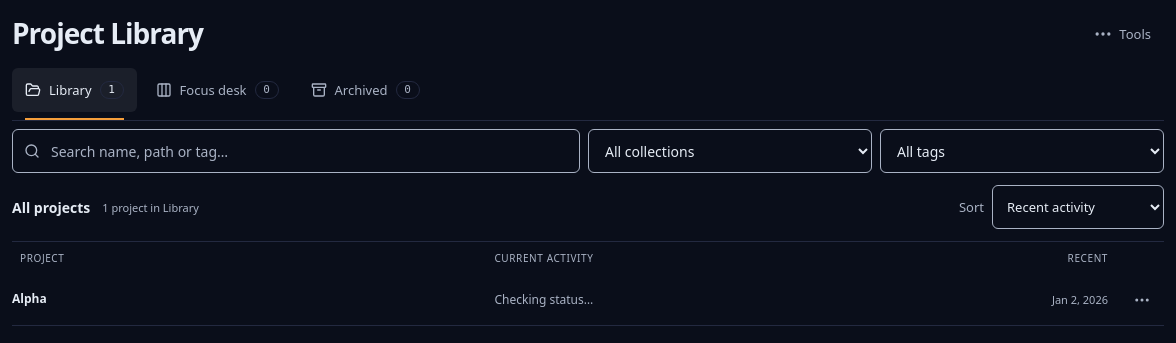
Test: keeps search, filters and clear together with sorting beside the index
The width and height of the screenshot is (1176, 343).
Expected: the button with aria-label "Open Alpha" is shown, [12,278,474,322]
In the search field named "Search projects": (296, 151) [12,129,580,173], type "Alpha"
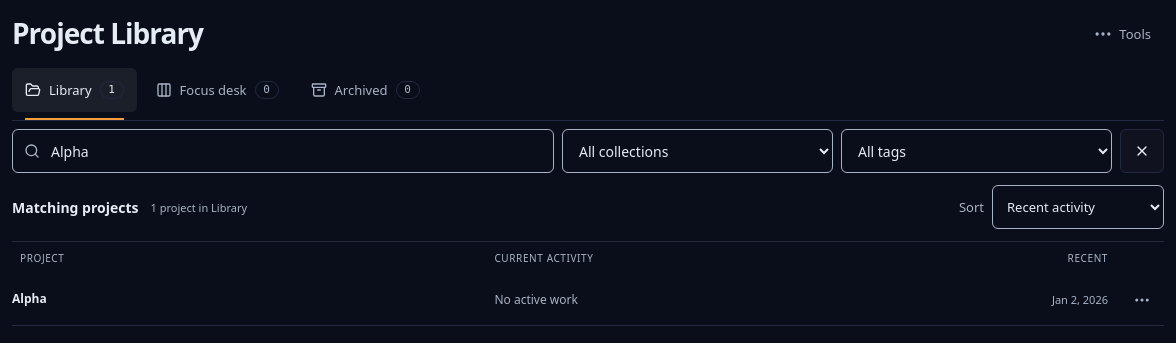
Click the button named "Clear search and filters": (1142, 151) [1120,129,1164,173]
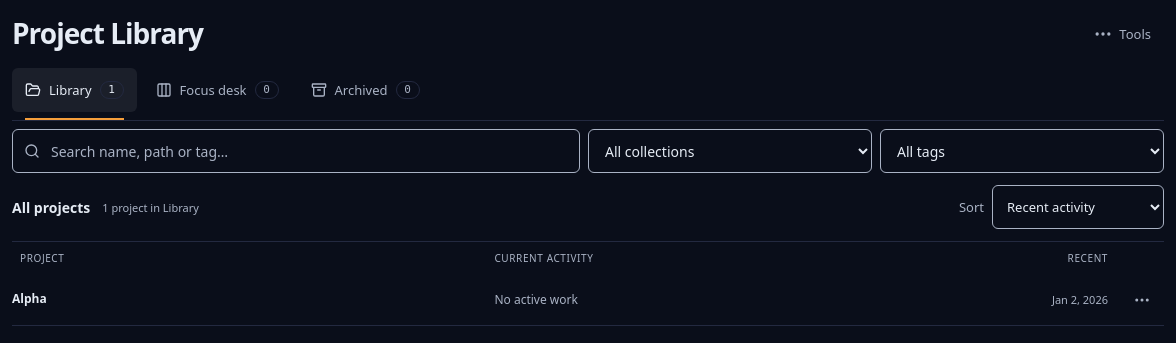
Result: the search field named "Search projects" is empty at [12,129,580,173]
